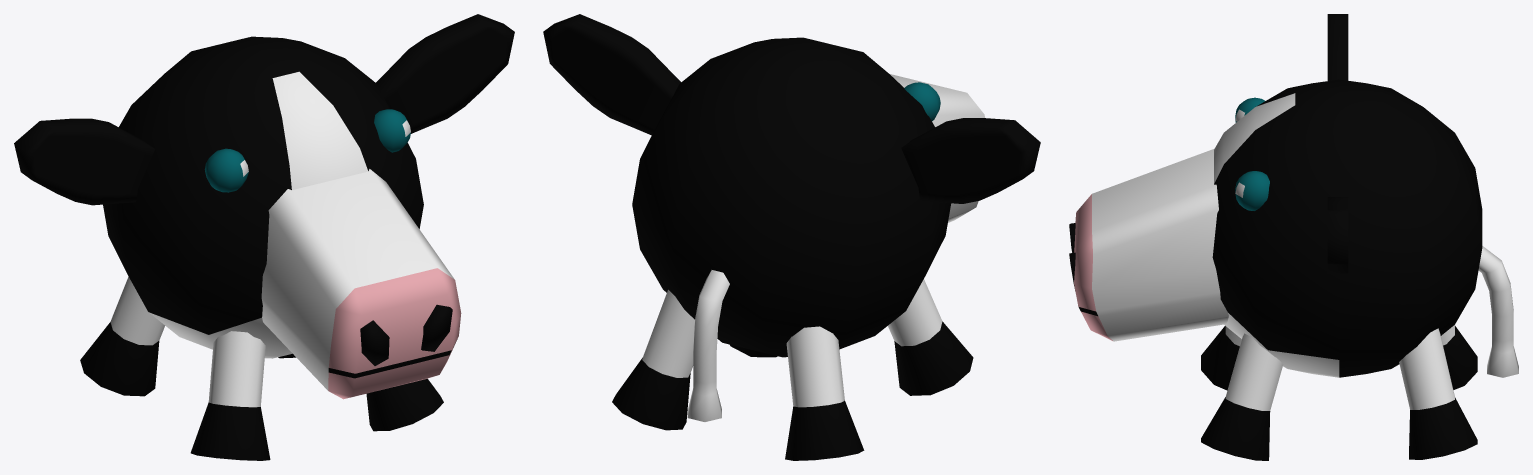
File: Cow.fbx
3 renders of one model, left to right at view 1: azimuth 30°, elevation 25°; view 2: azimuth 150°, elevation 25°; view 3: azimuth 270°, elevation 25°, orthographic. The views are drawn at different scales.
Visible parts, largest first — view 1: Cow; view 2: Cow; view 3: Cow.
Part boxes in pixels (bbox=[...]): Cow: bbox=[14, 14, 514, 460]; Cow: bbox=[543, 14, 1040, 460]; Cow: bbox=[1069, 14, 1518, 460].
Bounding box in the file's own units: 34.78 × 24.2 × 29.93.
